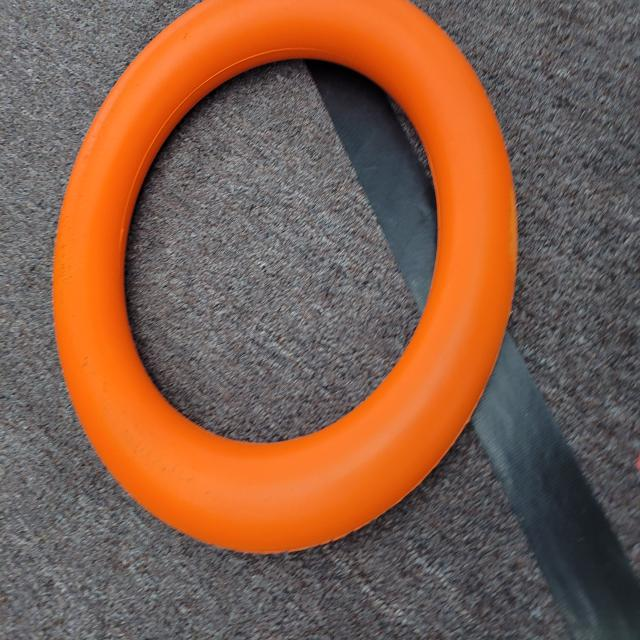note: (44, 0, 546, 564)
